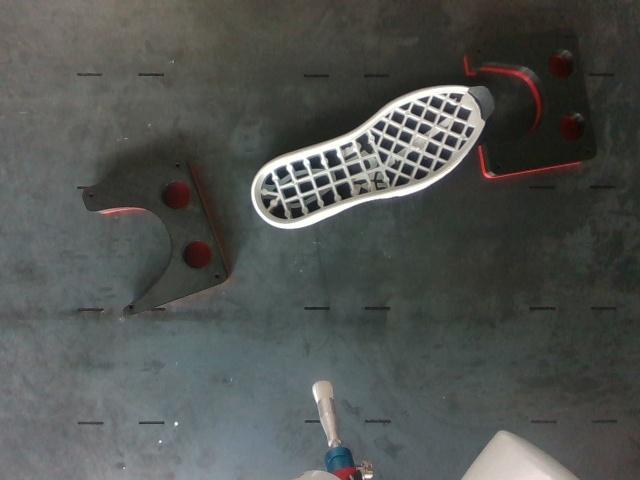shoes: (253, 87, 492, 225)
